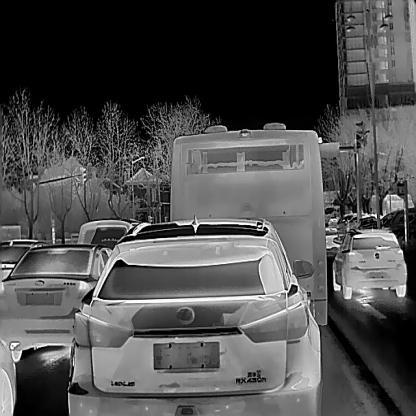car: (68, 225, 324, 415), (167, 123, 328, 326), (0, 245, 112, 360), (332, 228, 408, 298), (0, 238, 52, 281), (78, 219, 132, 246), (381, 189, 415, 212), (336, 211, 358, 232), (328, 215, 340, 228)
